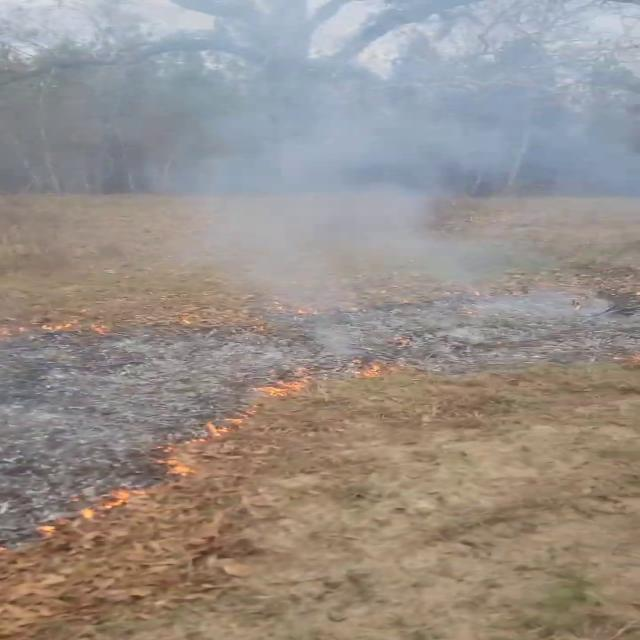Smoke: (10, 13, 636, 344)
